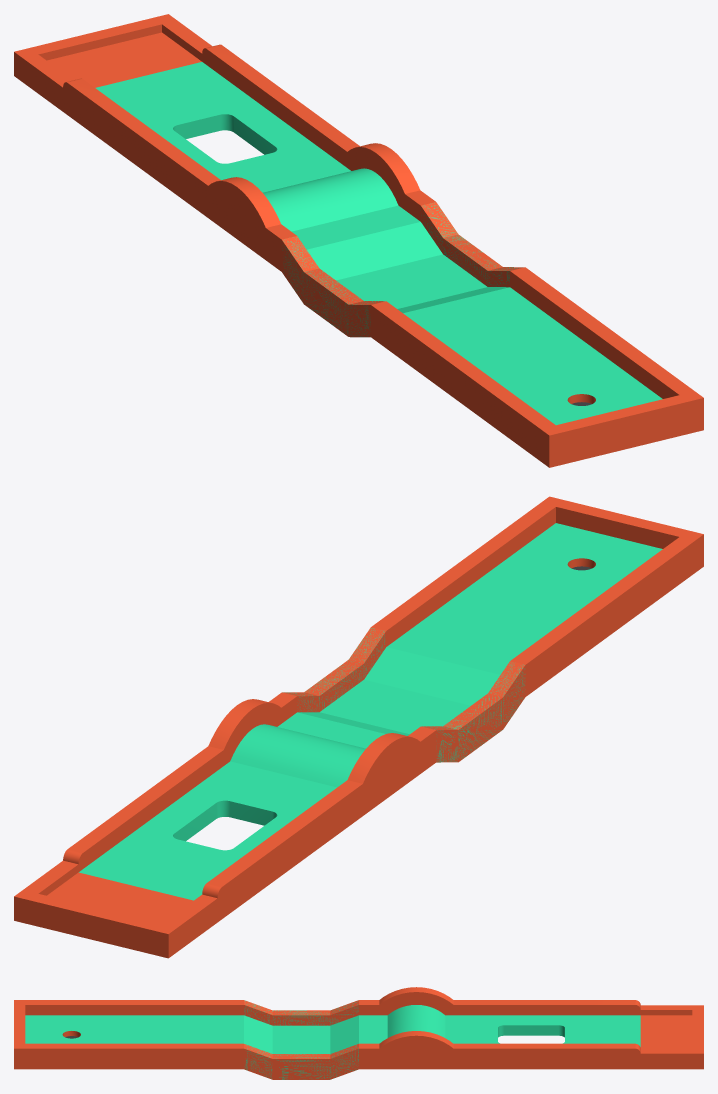
Rendered from testcourse5.obj.
3 views of the same model, one above another, from view 1: azimuth 30°, elevation 25°; view 2: azimuth 150°, elevation 25°; view 3: azimuth 270°, elevation 25° (orthographic). The views are drawn at different scales.
Bounding box in the file's own units: 1 × 0.4233 × 6.
